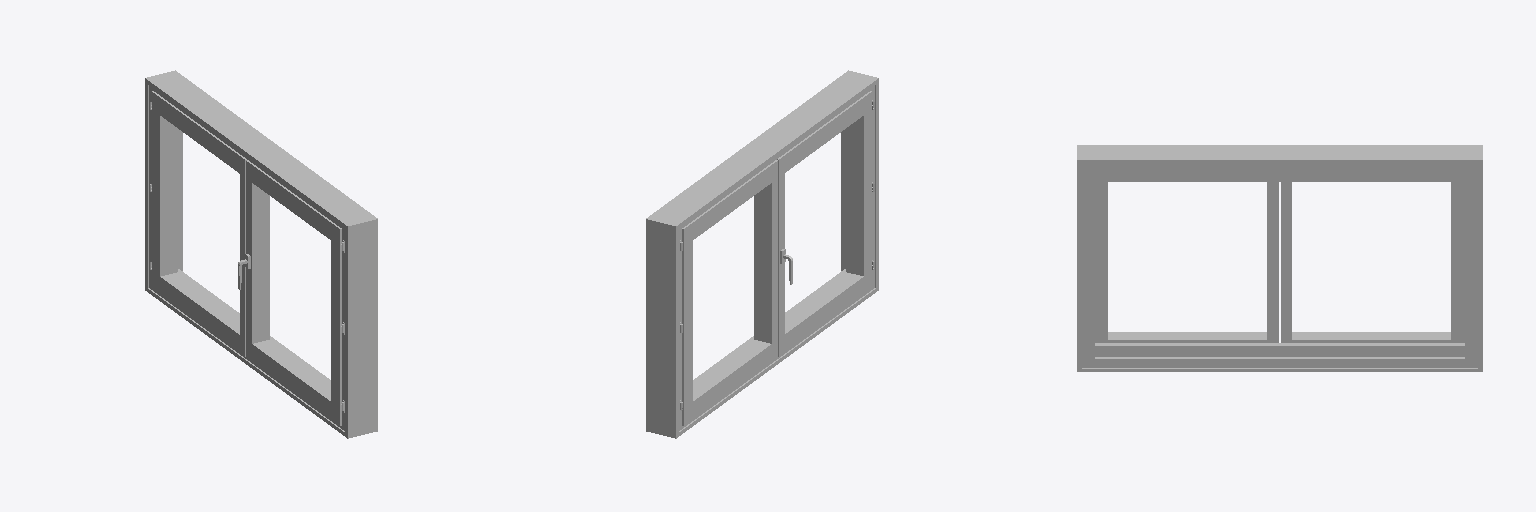
Rendered from win.obj.
The picture shows the model from 3 angles: view 1: azimuth 30°, elevation 25°; view 2: azimuth 150°, elevation 25°; view 3: azimuth 270°, elevation 25°; orthographic projection.
Parts seen in each view (by area): view 1: Cube.005, Cube.004, Cube.003; view 2: Cube.005, Cube.003, Cube.004; view 3: Cube.005, Cube.003, Cube.004.
Part boxes in pixels (left/top/right/bottom): Cube.005: left=145, top=70, right=377, bottom=438; Cube.004: left=238, top=160, right=344, bottom=425; Cube.003: left=150, top=91, right=246, bottom=356; Cube.005: left=646, top=70, right=878, bottom=438; Cube.003: left=680, top=160, right=777, bottom=425; Cube.004: left=777, top=91, right=874, bottom=356; Cube.005: left=1077, top=145, right=1482, bottom=371; Cube.003: left=1281, top=182, right=1464, bottom=342; Cube.004: left=1095, top=182, right=1278, bottom=342.
Size of the model in its own units: 0.4139 by 2 by 3.46.